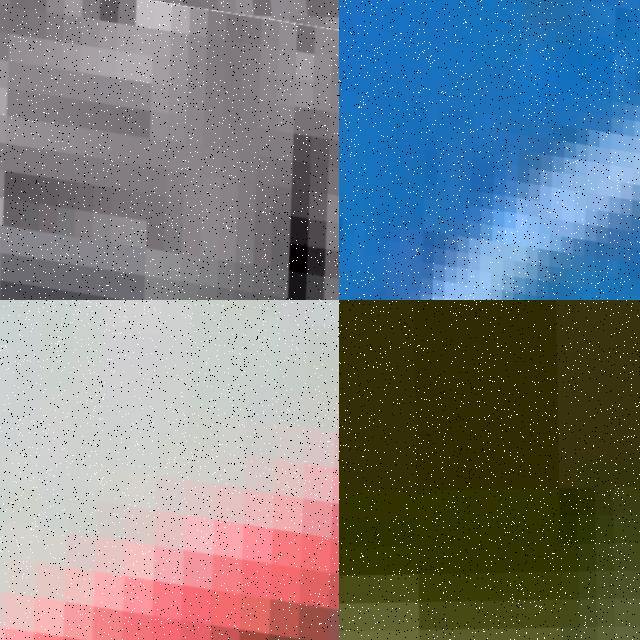drone: (0, 300, 339, 640), (0, 0, 339, 300), (339, 0, 640, 300)
